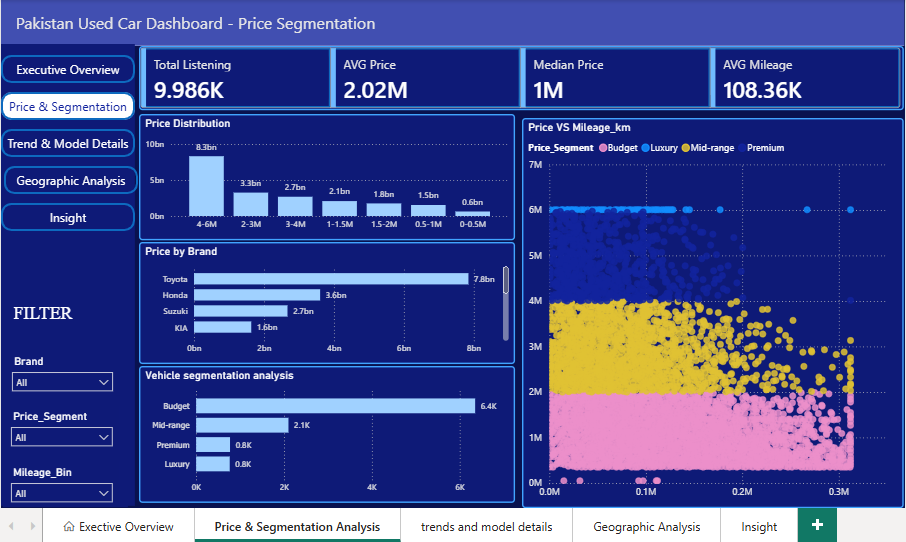

The dashboard page shown, as its layout file describes it:
{"tool":"powerbi","page":{"name":"Price & Segmentation Analysis","canvas":[1280,720],"ordinal":1},"visuals":[{"type":"shape","box":[0,0,1280.2,64.8],"z":0,"group":"g1"},{"type":"shape","box":[0,62.9,189.7,654.5],"z":0,"group":"g2"},{"type":"cardVisual","fields":{"Data":["CountNonNull(Car_Dataset.Ad_ID)","Avg(Car_Dataset.Price_PKR)","Median(Car_Dataset.Price_PKR)1","Avg(Car_Dataset.Mileage_km)"]},"box":[195.6,65.2,1084.3,90.7],"z":0},{"type":"clusteredColumnChart","title":"Price Distribution ","fields":{"Category":["Car_Dataset.Price_Bin"],"Y":["Sum(Car_Dataset.Price_PKR)"]},"box":[195.6,161.6,532.9,178.6],"z":1000},{"type":"shape","box":[2.4,339.6,177.3,380.4],"z":1000,"group":"g2"},{"type":"actionButton","box":[0,131,189.9,39.7],"z":2000,"group":"g2"},{"type":"clusteredBarChart","title":"Vehicle segmentation analysis","fields":{"Category":["Car_Dataset.Price_Segment"],"Y":["CountNonNull(Car_Dataset.Ad_ID)"]},"box":[195.6,518.7,532.9,194.2],"z":2000},{"type":"clusteredBarChart","title":"Price by Brand","fields":{"Category":["Car_Dataset.Brand"],"Y":["Sum(Car_Dataset.Price_PKR)"]},"box":[195.6,343,532.9,172.9],"z":3000},{"type":"slicer","fields":{"Values":["Car_Dataset.Brand"]},"box":[5.7,497.7,163,62.9],"z":3000,"group":"g2"},{"type":"scatterChart","title":"Price VS Mileage_km","fields":{"X":["Sum(Car_Dataset.Mileage_km)"],"Y":["Sum(Car_Dataset.Price_PKR)"],"Category":["Car_Dataset.Ad_ID"],"Series":["Car_Dataset.Price_Segment"]},"box":[738.4,167.2,541.4,552.8],"z":4000},{"type":"actionButton","box":[0,183.2,189.9,39.7],"z":4000,"group":"g2"},{"type":"group","id":"g1","title":"top bar","box":[0,0,1280.2,64.8],"z":5000},{"type":"slicer","fields":{"Values":["Car_Dataset.Price_Segment"]},"box":[4.3,576.3,164.5,64.4],"z":5000,"group":"g2"},{"type":"group","id":"g2","title":"Group 1","box":[0,62.9,194.5,656.4],"z":6000},{"type":"actionButton","box":[4.3,235.5,189.9,39.7],"z":6000,"group":"g2"},{"type":"slicer","fields":{"Values":["Car_Dataset.Mileage_Bin"]},"box":[4.3,655,164.5,62.9],"z":7000,"group":"g2"},{"type":"actionButton","box":[0,287.7,189.9,39.7],"z":8000,"group":"g2"},{"type":"actionButton","box":[0,78.7,189.9,39.7],"z":9000,"group":"g2"}]}

Visuals, with their boxes on the page's 1280x720 design canvas (x1, y1, x2, y2). These are canvas units, not pixel positions in the 906x542 screenshot, which may show the page scaled, cropped or inside an application window:
shape: bbox(0, 0, 1280, 65)
shape: bbox(0, 63, 190, 717)
cardVisual - CountNonNull(Car_Dataset.Ad_ID) x Avg(Car_Dataset.Price_PKR): bbox(196, 65, 1280, 156)
"Price Distribution " clusteredColumnChart: bbox(196, 162, 728, 340)
shape: bbox(2, 340, 180, 720)
actionButton: bbox(0, 131, 190, 171)
"Vehicle segmentation analysis" clusteredBarChart: bbox(196, 519, 728, 713)
"Price by Brand" clusteredBarChart: bbox(196, 343, 728, 516)
slicer - Car_Dataset.Brand: bbox(6, 498, 169, 561)
"Price VS Mileage_km" scatterChart: bbox(738, 167, 1280, 720)
actionButton: bbox(0, 183, 190, 223)
"top bar" group: bbox(0, 0, 1280, 65)
slicer - Car_Dataset.Price_Segment: bbox(4, 576, 169, 641)
"Group 1" group: bbox(0, 63, 194, 719)
actionButton: bbox(4, 236, 194, 275)
slicer - Car_Dataset.Mileage_Bin: bbox(4, 655, 169, 718)
actionButton: bbox(0, 288, 190, 327)
actionButton: bbox(0, 79, 190, 118)
